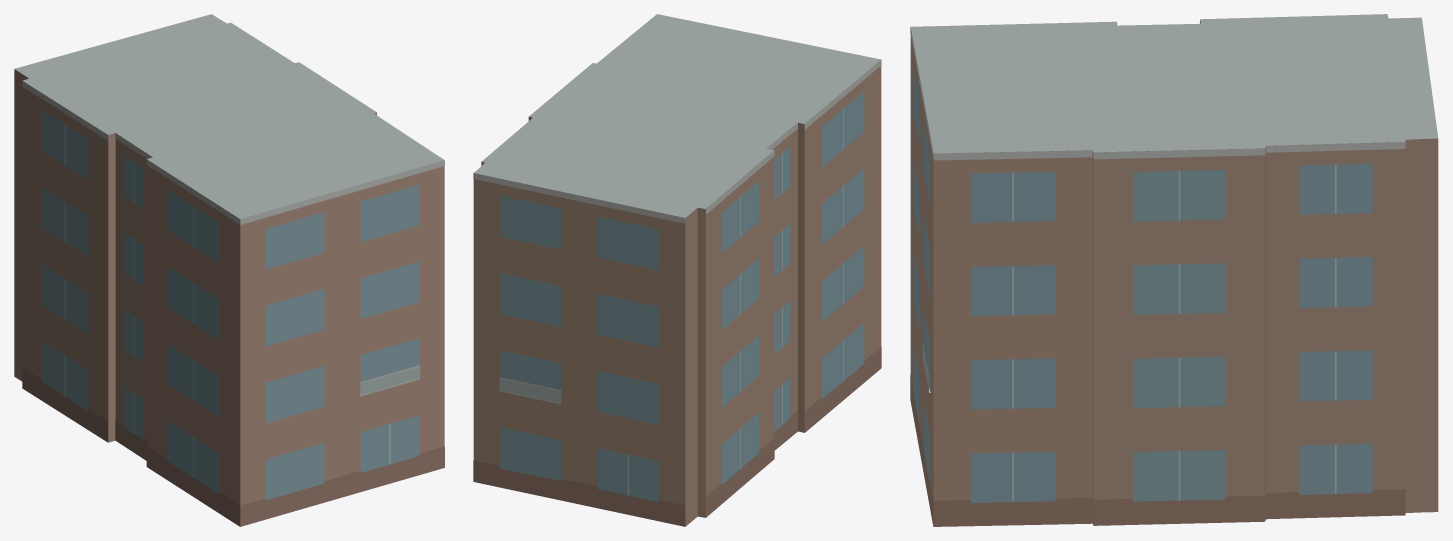
The model's file is survey-upis-32918326.glb.
3 renders of one model, left to right at view 1: azimuth 30°, elevation 25°; view 2: azimuth 150°, elevation 25°; view 3: azimuth 270°, elevation 25°, orthographic. The views are drawn at different scales.
Parts seen in each view (by area): view 1: survey-upis-32918326.tmp; view 2: survey-upis-32918326.tmp; view 3: survey-upis-32918326.tmp.
Part boxes in pixels (x1,y1,x2,y2): survey-upis-32918326.tmp: (14,14,444,526); survey-upis-32918326.tmp: (473,14,881,526); survey-upis-32918326.tmp: (910,14,1438,526).
Bounding box in the file's own units: 10.34 × 12.9 × 16.54.
